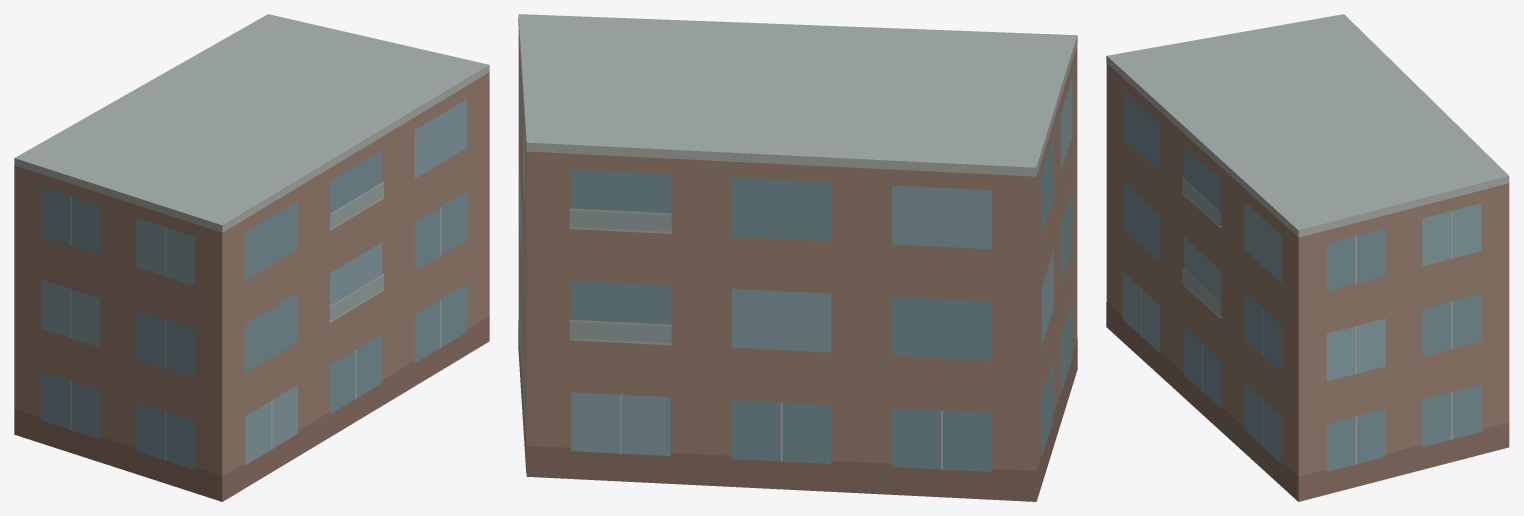
The model's file is survey-upis-32884846.glb.
The picture shows the model from 3 angles, left to right: view 1: azimuth 30°, elevation 25°; view 2: azimuth 150°, elevation 25°; view 3: azimuth 270°, elevation 25°; orthographic projection. The views are drawn at different scales.
Parts seen in each view (by area): view 1: survey-upis-32884846.tmp; view 2: survey-upis-32884846.tmp; view 3: survey-upis-32884846.tmp.
Boxes of the visible parts, x1,y1,x2,y2 form: survey-upis-32884846.tmp: (14,14,489,501); survey-upis-32884846.tmp: (518,14,1077,501); survey-upis-32884846.tmp: (1106,14,1509,501).
Bounding box in the file's own units: 15.66 × 9.15 × 12.31.
